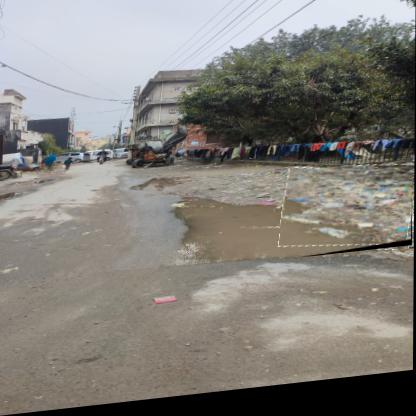Garbage: (281, 169, 415, 268)
